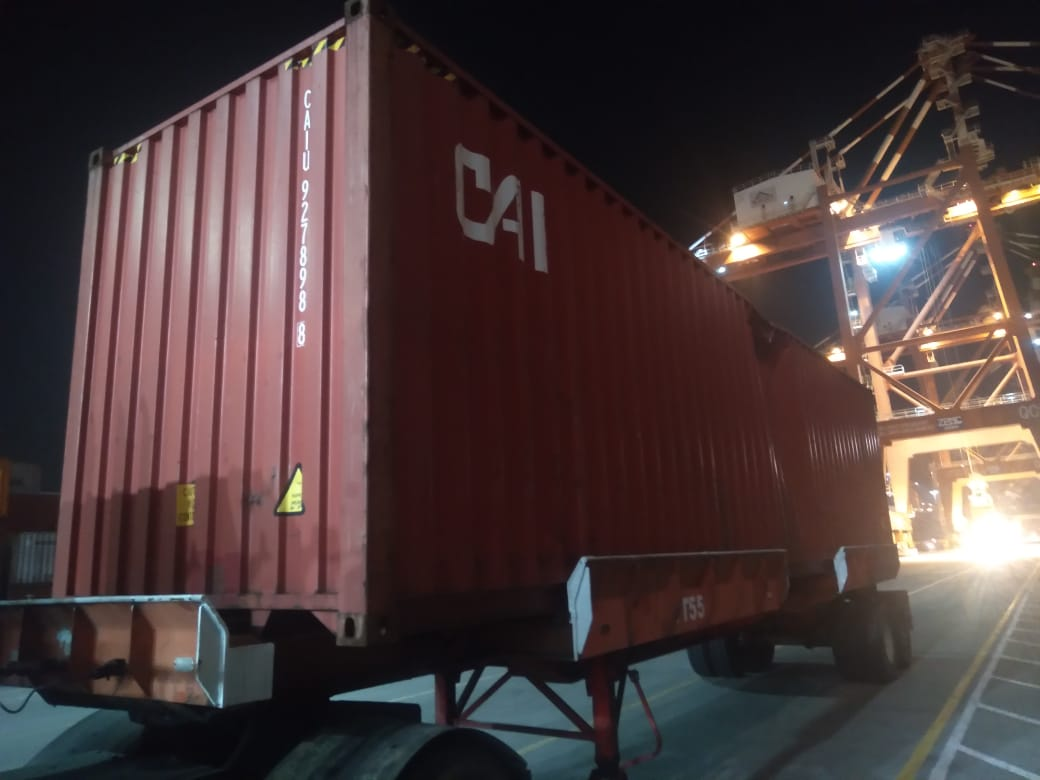dented: (723, 297, 806, 381)
